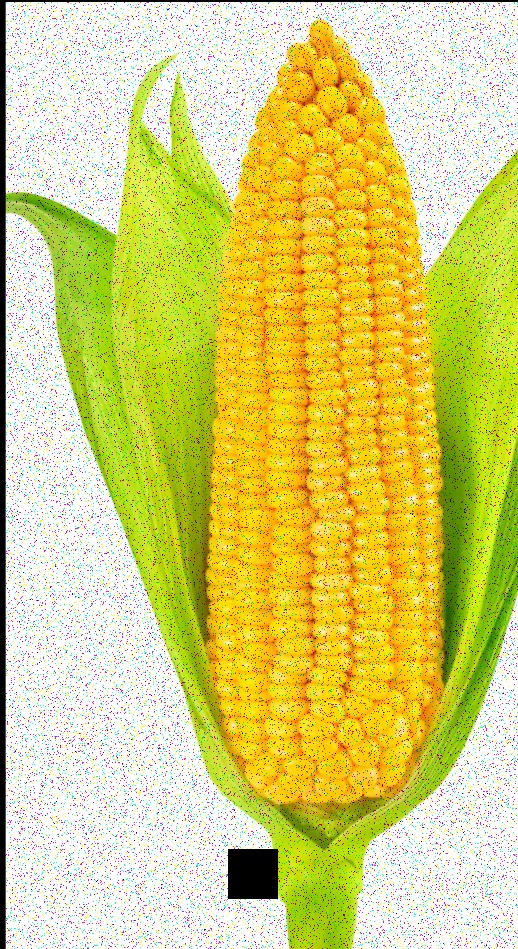corn: (186, 8, 441, 835)
